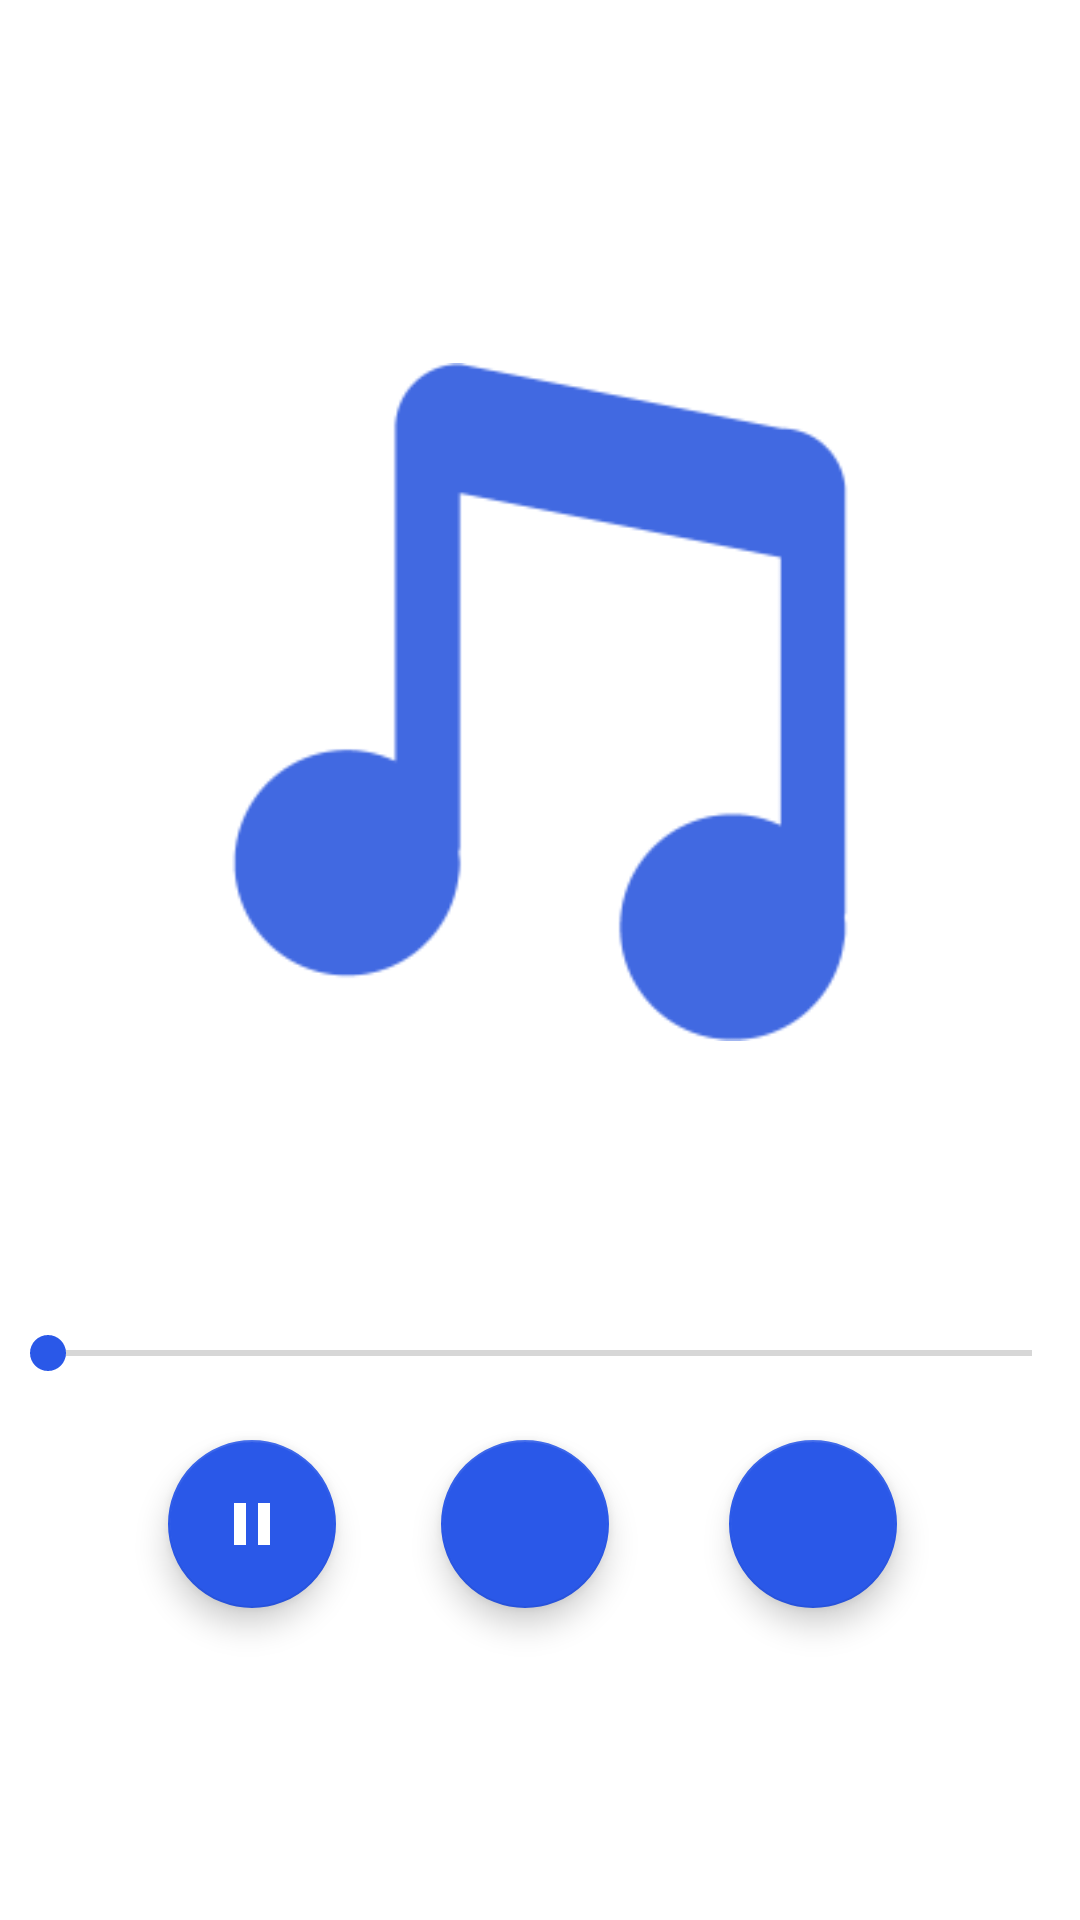

Icons on this 1080w x 1920h Android screen, each with the point to tap as (x,y):
pause: (252,1524)
